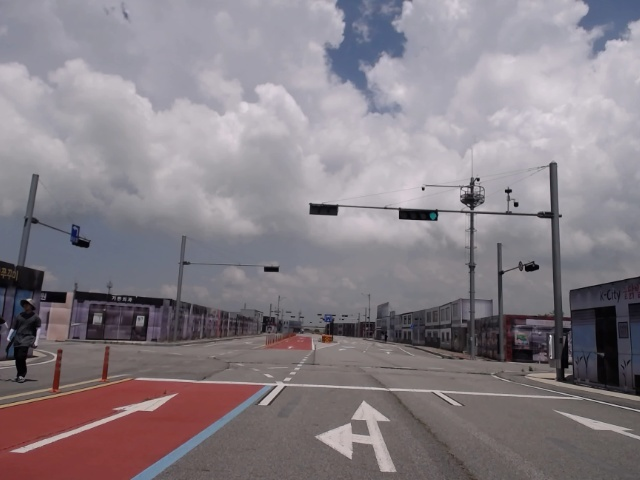straight_green_4: (400, 208, 440, 222)
